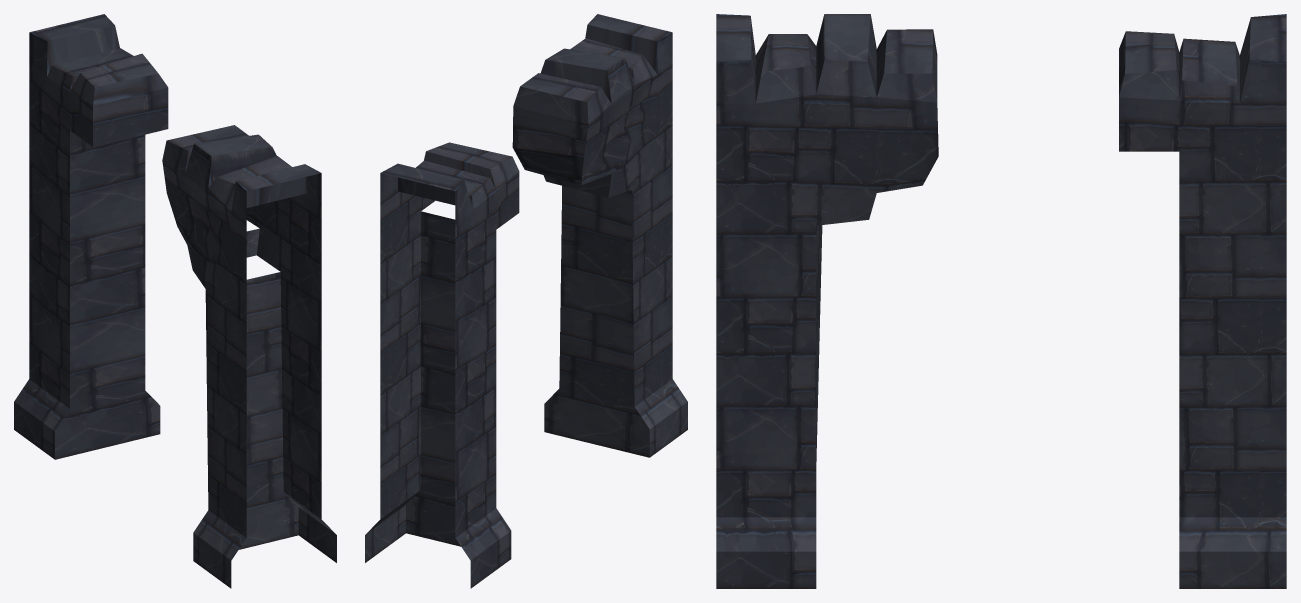
Rendered from Ruins_Arch_002.fbx.
The picture shows the model from 3 angles, left to right: view 1: azimuth 30°, elevation 25°; view 2: azimuth 150°, elevation 25°; view 3: azimuth 270°, elevation 25°; orthographic projection. The views are drawn at different scales.
Parts seen in each view (by area): view 1: Ruins_Arch_002; view 2: Ruins_Arch_002; view 3: Ruins_Arch_002.
Part boxes in pixels (x1,y1,x2,y2): Ruins_Arch_002: (14,14,336,588); Ruins_Arch_002: (365,14,687,588); Ruins_Arch_002: (716,14,1286,588).
Size of the model in its own units: 1.4 by 5.04 by 5.
1 material, 1 textured.
